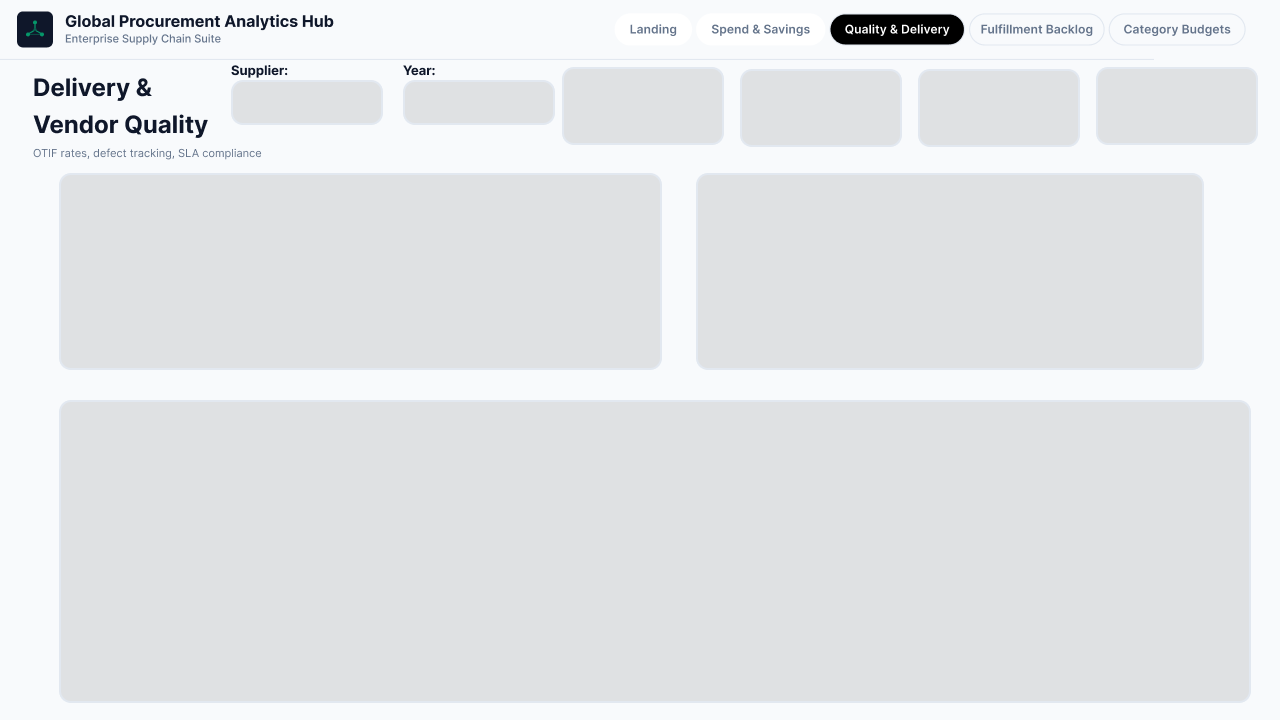

The dashboard page shown, as its layout file describes it:
{"tool":"powerbi","page":{"name":"Supplier Quality & Delivery Performance","canvas":[1280,720],"ordinal":2},"visuals":[{"type":"slicer","fields":{"Values":["Supplier Dimenson.Supplier"]},"box":[229,75,155,50],"z":0},{"type":"slicer","fields":{"Values":["Date Dimension.Date.Variation.Date Hierarchy.Year"]},"box":[398,75,159,50],"z":1000},{"type":"scatterChart","title":"Supplier Quality vs. Lead Time Scatter Matrix:","fields":{"X":["Measure.Avg Lead Time (Days)"],"Y":["Measure.Quality Rate%"],"Size":["Measure.Total Quantity"],"Category":["Supplier Dimenson.Supplier"]},"box":[64,407,1181,286],"z":2000},{"type":"clusteredBarChart","title":"Category Defect Breakdown","fields":{"Y":["Measure.Total defective"],"Category":["Category Dimension.Item_Category"]},"box":[692,170,510,201],"z":3000},{"type":"pivotTable","title":"Supplier Scorecard Table","fields":{"Values":["Measure.Total Spend","Measure.Total orders","Measure.Savings Rate %","Measure.in Full Order Delivery Rate%"],"Rows":["Supplier Dimenson.Supplier"]},"box":[82,170,563,201],"z":4000},{"type":"actionButton","box":[612,12,80,34],"z":5000},{"type":"actionButton","box":[699,12,123,34],"z":6000},{"type":"actionButton","box":[838,12,123,34],"z":7000},{"type":"actionButton","box":[974,12,123,34],"z":8000},{"type":"actionButton","box":[1115,12,123,34],"z":9000},{"type":"cardVisual","fields":{"Data":["Measure.Delivered Orders"]},"box":[564,66,162,86],"z":10000},{"type":"cardVisual","fields":{"Data":["Measure.Avg Lead Time (Days)"]},"box":[741,66,162,86],"z":11000},{"type":"cardVisual","fields":{"Data":["Measure.Quality Rate%"]},"box":[917,66,162,86],"z":12000},{"type":"cardVisual","fields":{"Data":["Measure.in Full Order Delivery Rate%"]},"box":[1084,66,185,86],"z":13000}]}

Visuals, with their boxes on the page's 1280x720 design canvas (x1, y1, x2, y2). These are canvas units, not pixel positions in the 1280x720 screenshot, which may show the page scaled, cropped or inside an application window:
slicer - Supplier Dimenson.Supplier: region(229, 75, 384, 125)
slicer - Date Dimension.Date.Variation.Date Hierarchy.Year: region(398, 75, 557, 125)
"Supplier Quality vs. Lead Time Scatter Matrix:" scatterChart: region(64, 407, 1245, 693)
"Category Defect Breakdown" clusteredBarChart: region(692, 170, 1202, 371)
"Supplier Scorecard Table" pivotTable: region(82, 170, 645, 371)
actionButton: region(612, 12, 692, 46)
actionButton: region(699, 12, 822, 46)
actionButton: region(838, 12, 961, 46)
actionButton: region(974, 12, 1097, 46)
actionButton: region(1115, 12, 1238, 46)
cardVisual - Measure.Delivered Orders: region(564, 66, 726, 152)
cardVisual - Measure.Avg Lead Time (Days): region(741, 66, 903, 152)
cardVisual - Measure.Quality Rate%: region(917, 66, 1079, 152)
cardVisual - Measure.in Full Order Delivery Rate%: region(1084, 66, 1269, 152)
